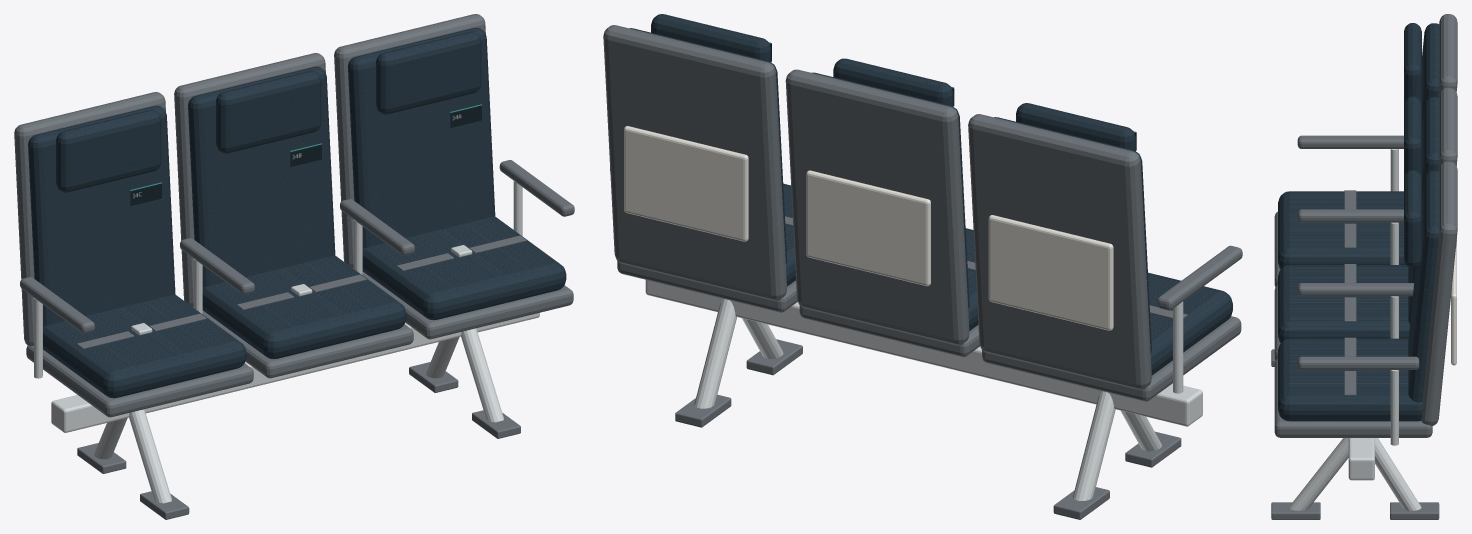
Rendered from aircraft-seat-row.glb.
3 views of the same model, side by side, from view 1: azimuth 30°, elevation 25°; view 2: azimuth 150°, elevation 25°; view 3: azimuth 270°, elevation 25° (orthographic). The views are drawn at different scales.
Visible parts, largest first — view 1: BackCushion1, BackCushion2, BackCushion0, SeatCushion1, SeatCushion2, SeatCushion0, Headrest0, Headrest1, Headrest2, BackShell0, BackShell2, BackShell1 (+17 smaller); view 2: BackShell1, BackShell2, BackShell0, TrayTable0, TrayTable1, TrayTable2, SeatBeam, SeatCushion0, SeatPan0, Headrest1, Headrest2, Headrest0 (+14 smaller); view 3: SeatCushion2, SeatCushion1, SeatCushion0, BackShell2, BackCushion2, SeatPan2, Headrest2, Armrest3, Armrest2, BackCushion1, Armrest0, Armrest1 (+23 smaller).
Part boxes in pixels (x1,y1,x2,y2): BackCushion1: (188,66,335,287); BackCushion2: (348,27,495,248); BackCushion0: (28,105,175,326); SeatCushion1: (202,255,406,359); SeatCushion2: (362,216,566,320); SeatCushion0: (43,294,246,398); Headrest0: (56,109,161,192); Headrest1: (216,70,321,153); Headrest2: (376,31,481,114); BackShell0: (14,92,165,346); BackShell2: (334,14,485,267); BackShell1: (174,53,325,306); BackShell1: (785,69,969,345); BackShell2: (603,25,786,300); BackShell0: (968,114,1151,389); TrayTable0: (988,215,1113,330); TrayTable1: (806,170,930,286); TrayTable2: (624,126,748,241); SeatBeam: (645,280,1202,426); SeatCushion0: (1148,272,1232,375); SeatPan0: (982,316,1241,401); Headrest1: (833,58,953,106); Headrest2: (651,14,771,62); Headrest0: (1016,103,1135,151); SeatCushion2: (1278,338,1422,421); SeatCushion1: (1278,265,1409,342); SeatCushion0: (1278,191,1405,269); BackShell2: (1421,161,1457,425); BackCushion2: (1408,170,1439,402); SeatPan2: (1274,359,1432,437); Headrest2: (1404,170,1421,268); Armrest3: (1297,356,1419,369); Armrest2: (1297,283,1413,296); BackCushion1: (1408,97,1439,323); Armrest0: (1297,135,1403,148); Armrest1: (1297,209,1403,222).
Size of the model in its own units: 1.64 by 1.08 by 0.5658.
Materials: 7 (4 with a texture image).
